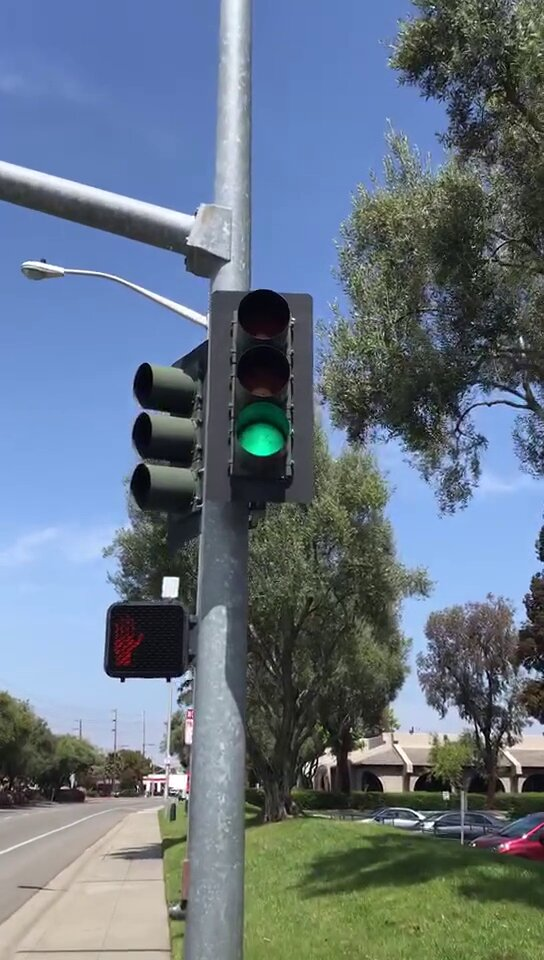green_light: (210, 293, 313, 495)
